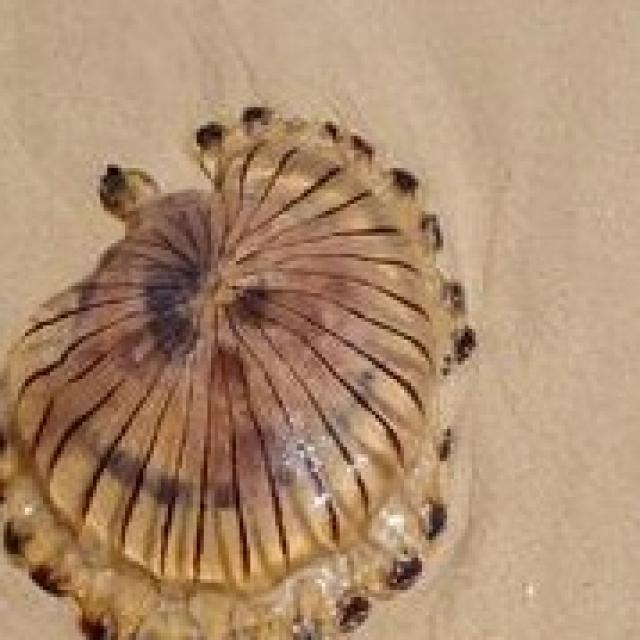Box-jellyfish: (0, 100, 479, 637)
